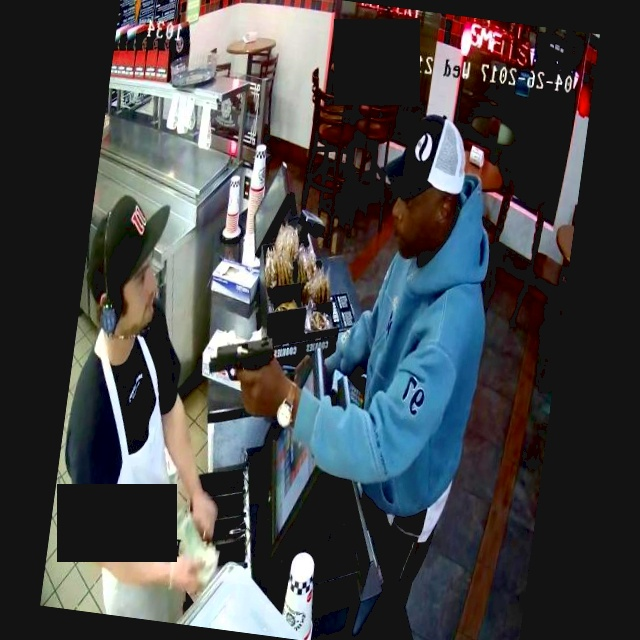gun: (195, 304, 291, 407)
